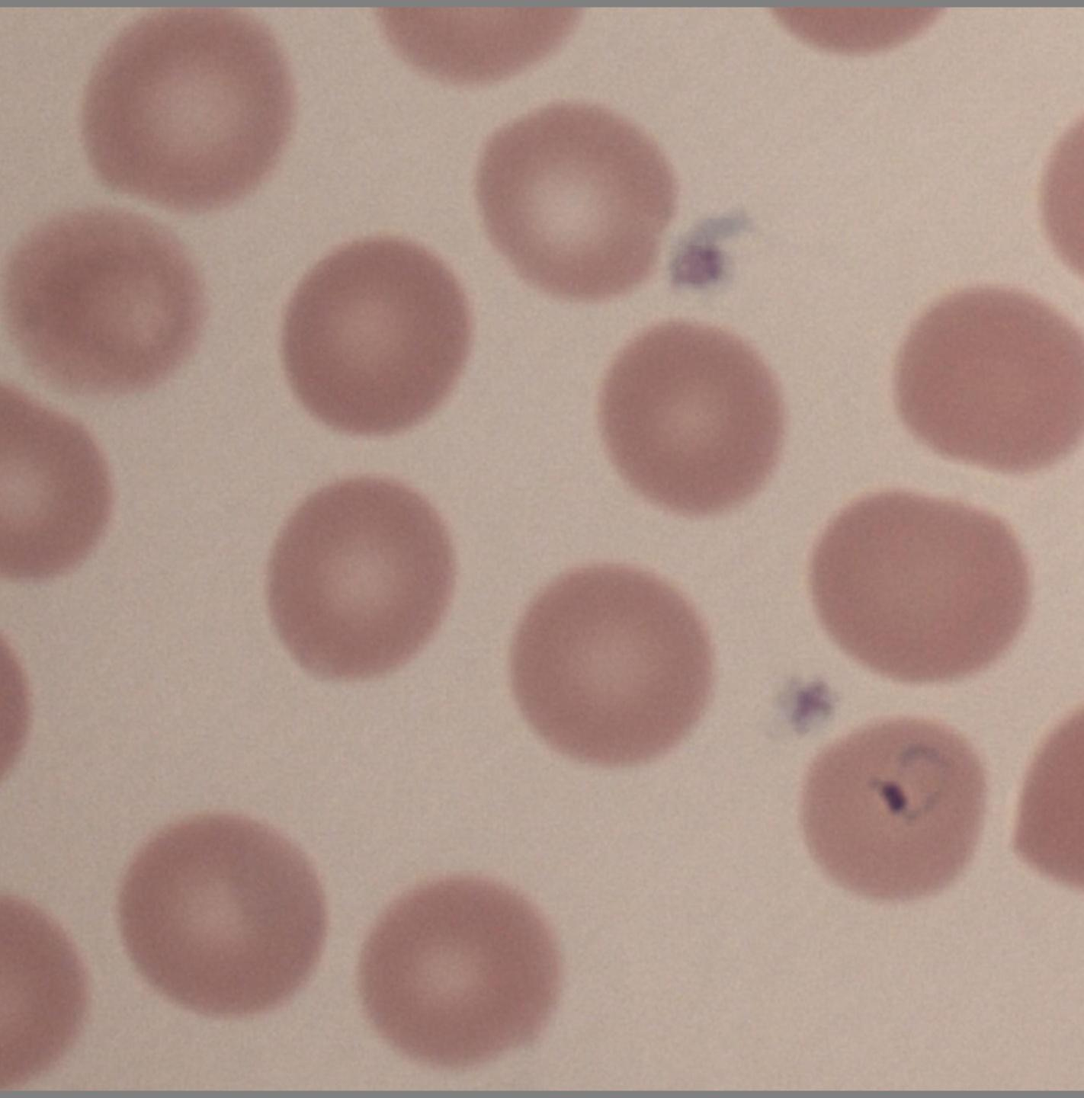Infected: (797, 717, 985, 902)
Uninfected: (116, 813, 328, 1016), (812, 492, 1026, 683), (510, 565, 714, 764), (85, 13, 293, 206), (357, 874, 562, 1068), (285, 235, 475, 439), (476, 102, 677, 294), (267, 479, 456, 679), (5, 210, 204, 397), (597, 323, 785, 514), (893, 287, 1080, 473)
